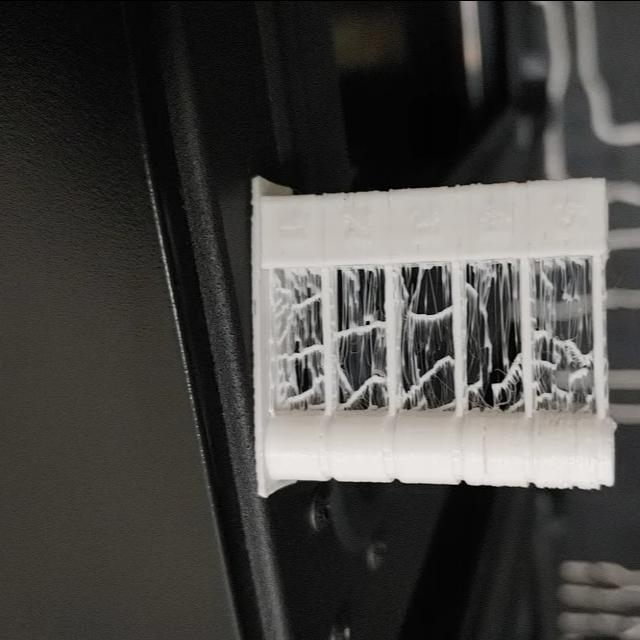Stringing: (539, 256, 589, 401), (471, 269, 516, 405), (273, 277, 317, 409), (406, 267, 448, 403), (343, 267, 377, 403)
